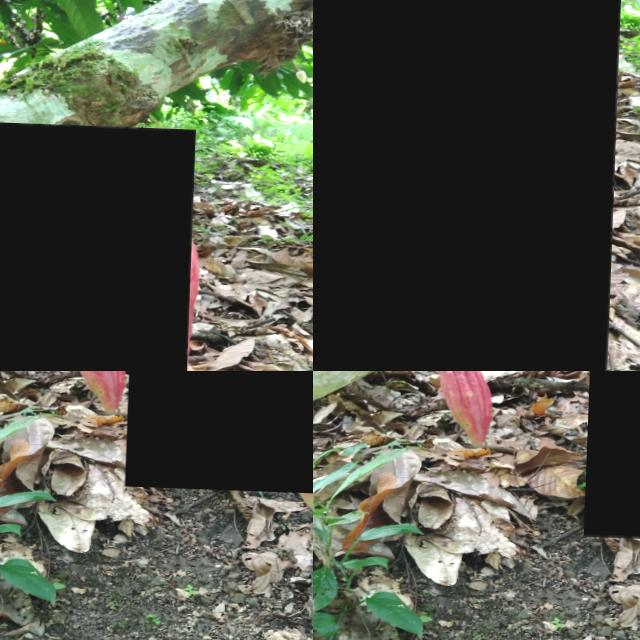Sana: (313, 0, 623, 371), (0, 118, 196, 371), (128, 371, 313, 491), (434, 371, 498, 444)
